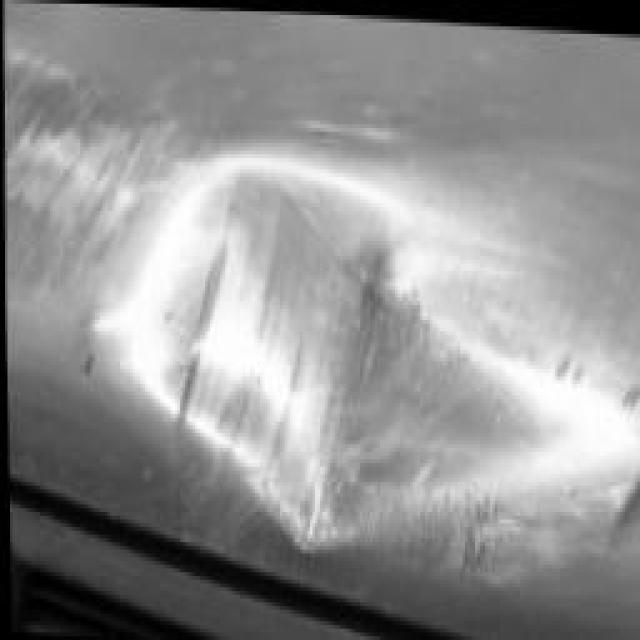Bonnet: (80, 117, 572, 612)
